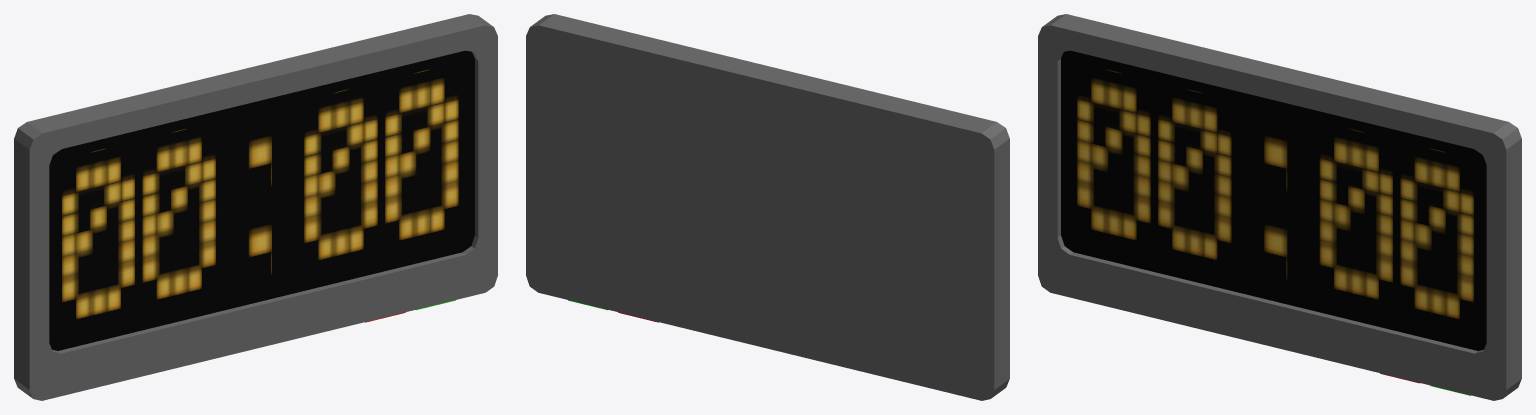
File: Int_TechWatch01.fbx
The picture shows the model from 3 angles, left to right: view 1: azimuth 30°, elevation 25°; view 2: azimuth 150°, elevation 25°; view 3: azimuth 330°, elevation 25°; orthographic projection.
Parts seen in each view (by area): view 1: Int_TechWatch01; view 2: Int_TechWatch01; view 3: Int_TechWatch01.
Boxes of the visible parts, left/top/right/bottom form: Int_TechWatch01: left=14, top=14, right=497, bottom=400; Int_TechWatch01: left=526, top=14, right=1009, bottom=400; Int_TechWatch01: left=1038, top=14, right=1521, bottom=400.
Size of what is drawn, in the model's own units: 60 by 3.46 by 33.19.
